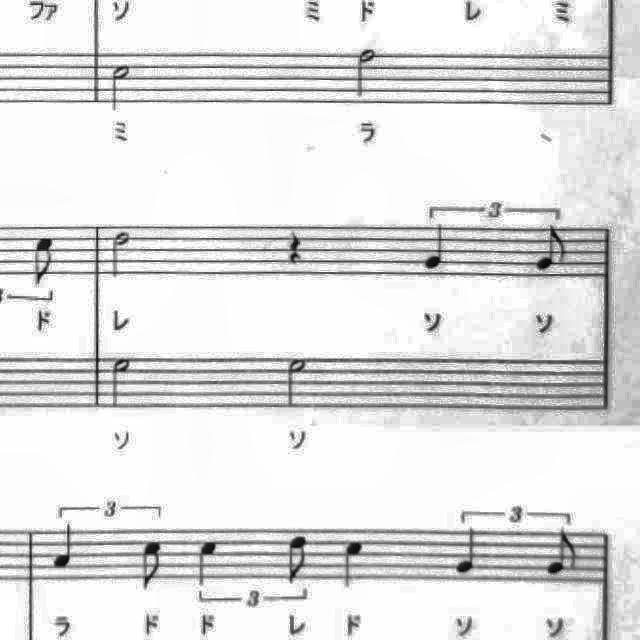Eighth-note: (540, 526, 584, 582), (26, 230, 62, 294), (134, 534, 170, 598), (530, 224, 574, 276), (278, 529, 316, 589)
Half-note: (348, 41, 384, 103), (278, 352, 314, 412), (102, 59, 138, 118), (104, 352, 138, 414), (104, 225, 136, 283)
Quarter-note: (335, 532, 373, 596), (449, 522, 487, 580), (417, 220, 455, 276), (48, 520, 84, 576), (192, 534, 226, 592)
Quarter-rest: (281, 220, 311, 268)
